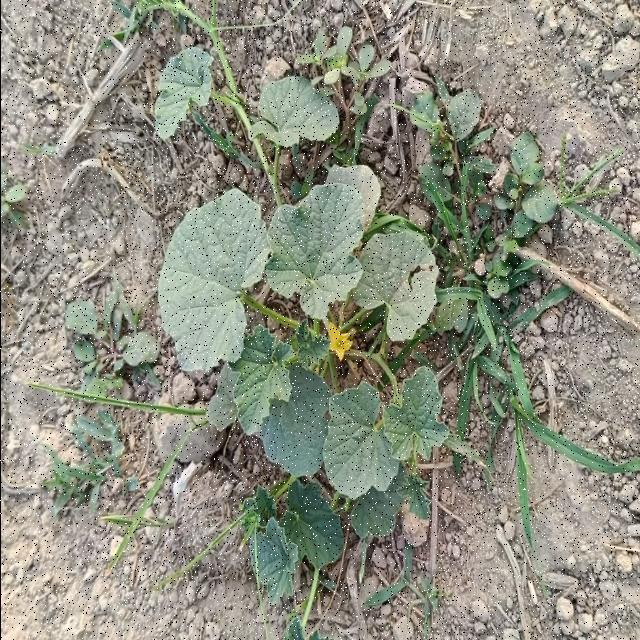plant: (130, 0, 480, 604)
